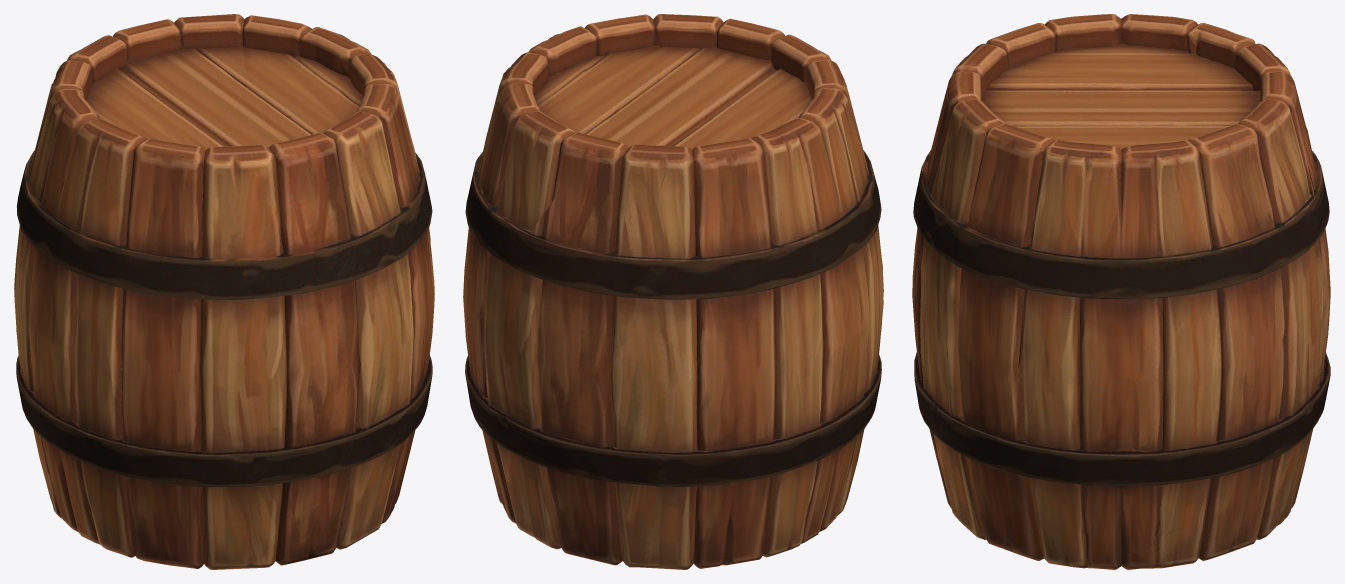
File: barrel.glb
The picture shows the model from 3 angles, left to right: view 1: azimuth 30°, elevation 25°; view 2: azimuth 150°, elevation 25°; view 3: azimuth 270°, elevation 25°; orthographic projection.
Bounding box in the file's own units: 1.72 × 1.9 × 1.73.
Materials: 1 (1 with a texture image).
